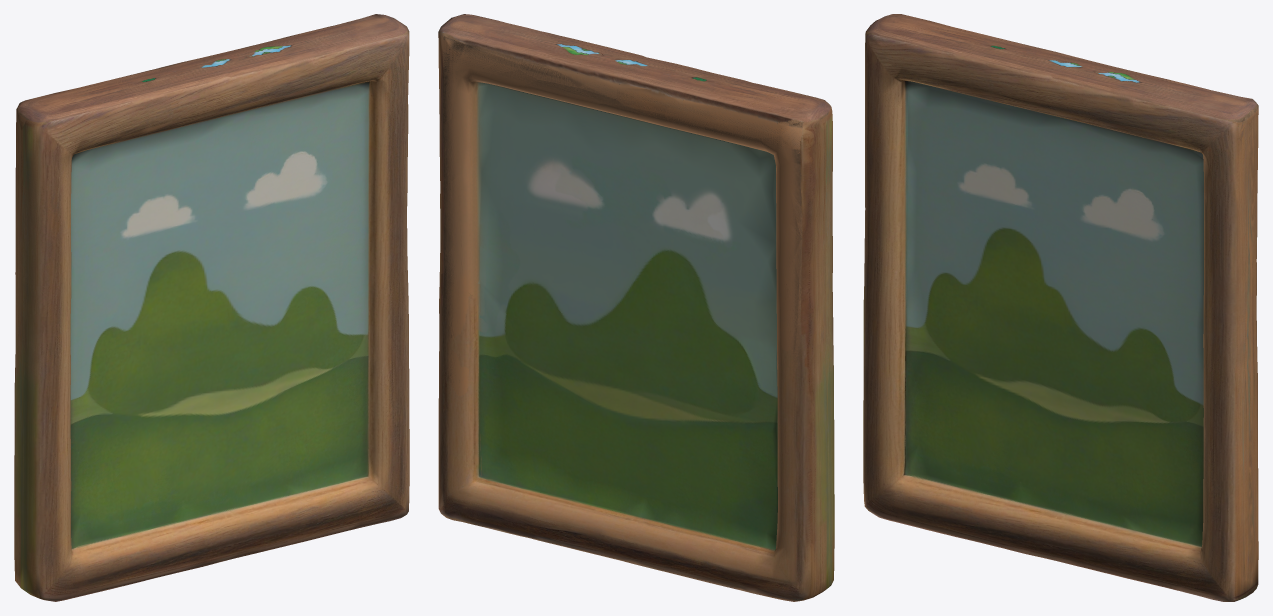
The model's file is painting.glb.
3 views of the same model, side by side, from view 1: azimuth 30°, elevation 25°; view 2: azimuth 150°, elevation 25°; view 3: azimuth 330°, elevation 25° (orthographic).
Bounding box in the file's own units: 1.14 × 1.4 × 0.1602.
1 material, 1 textured.
